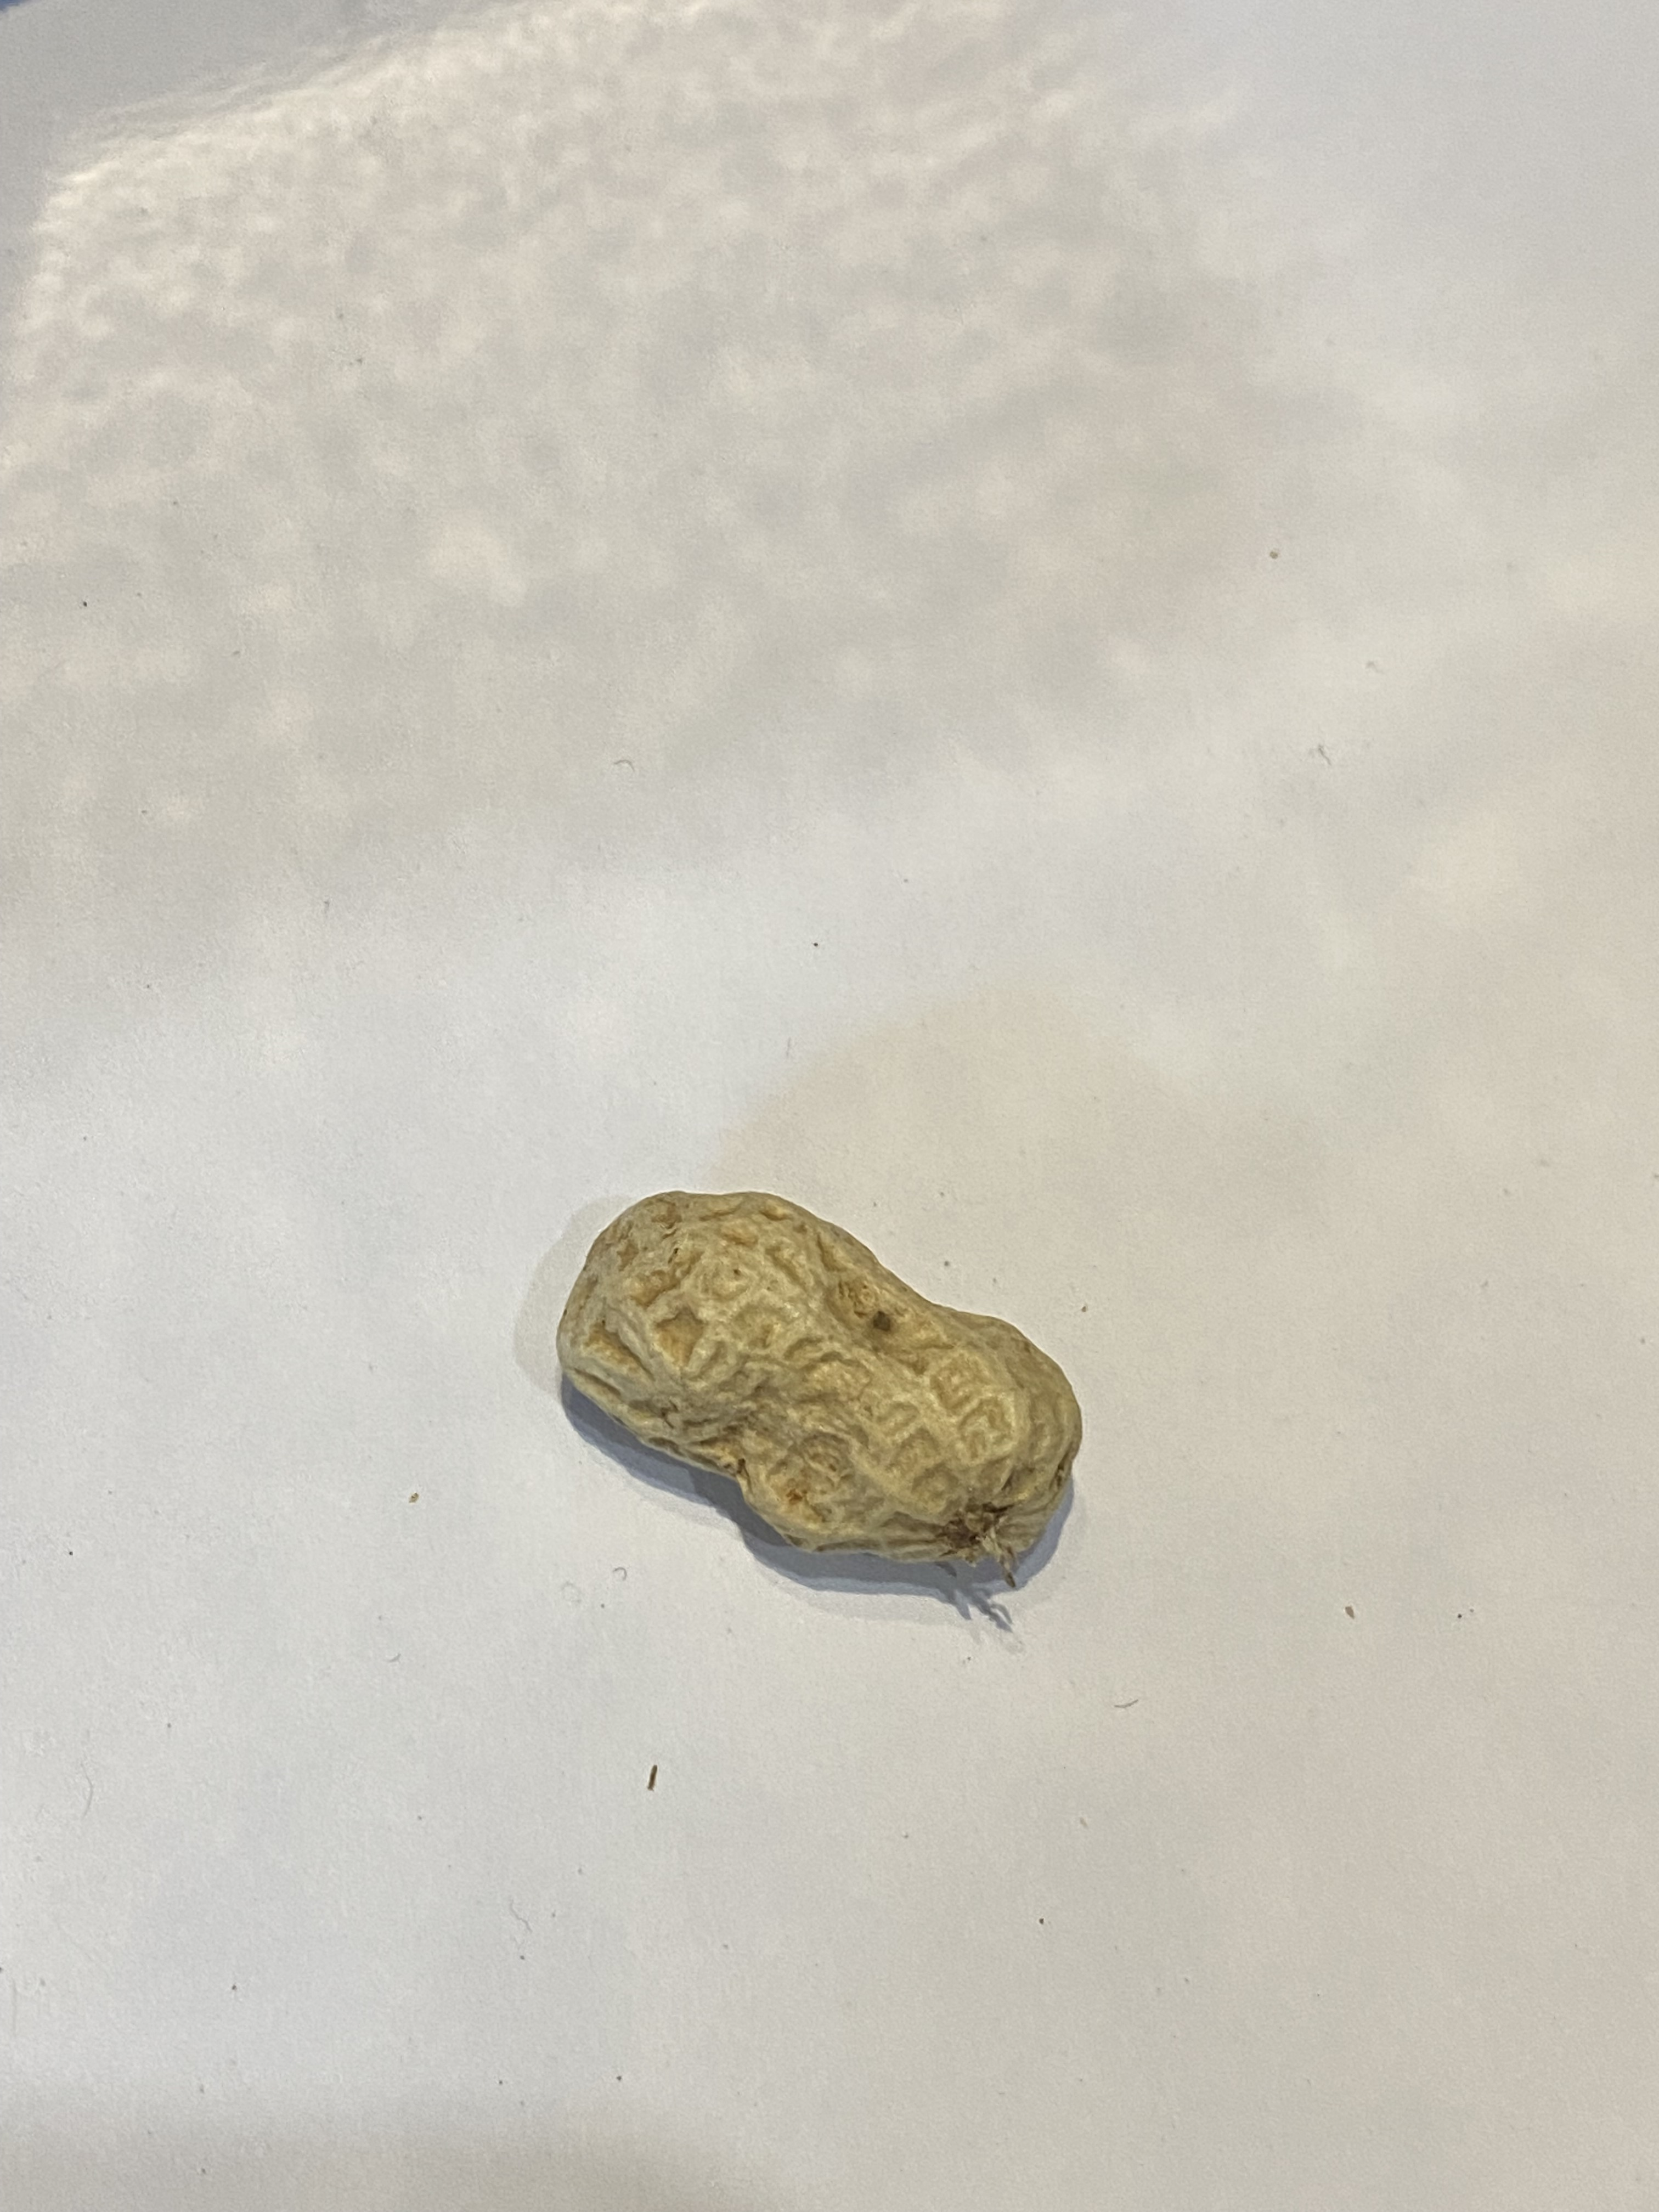kacang2: (549, 1160, 1101, 1599)
